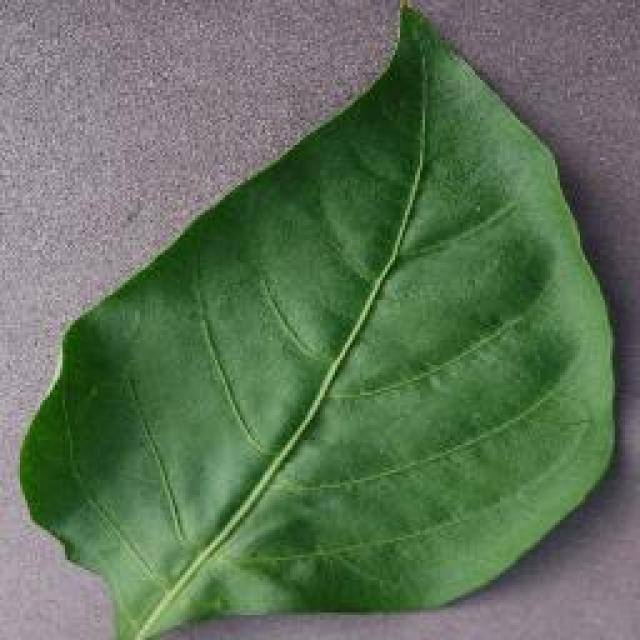Chilli_Healthy: (15, 0, 617, 638)
